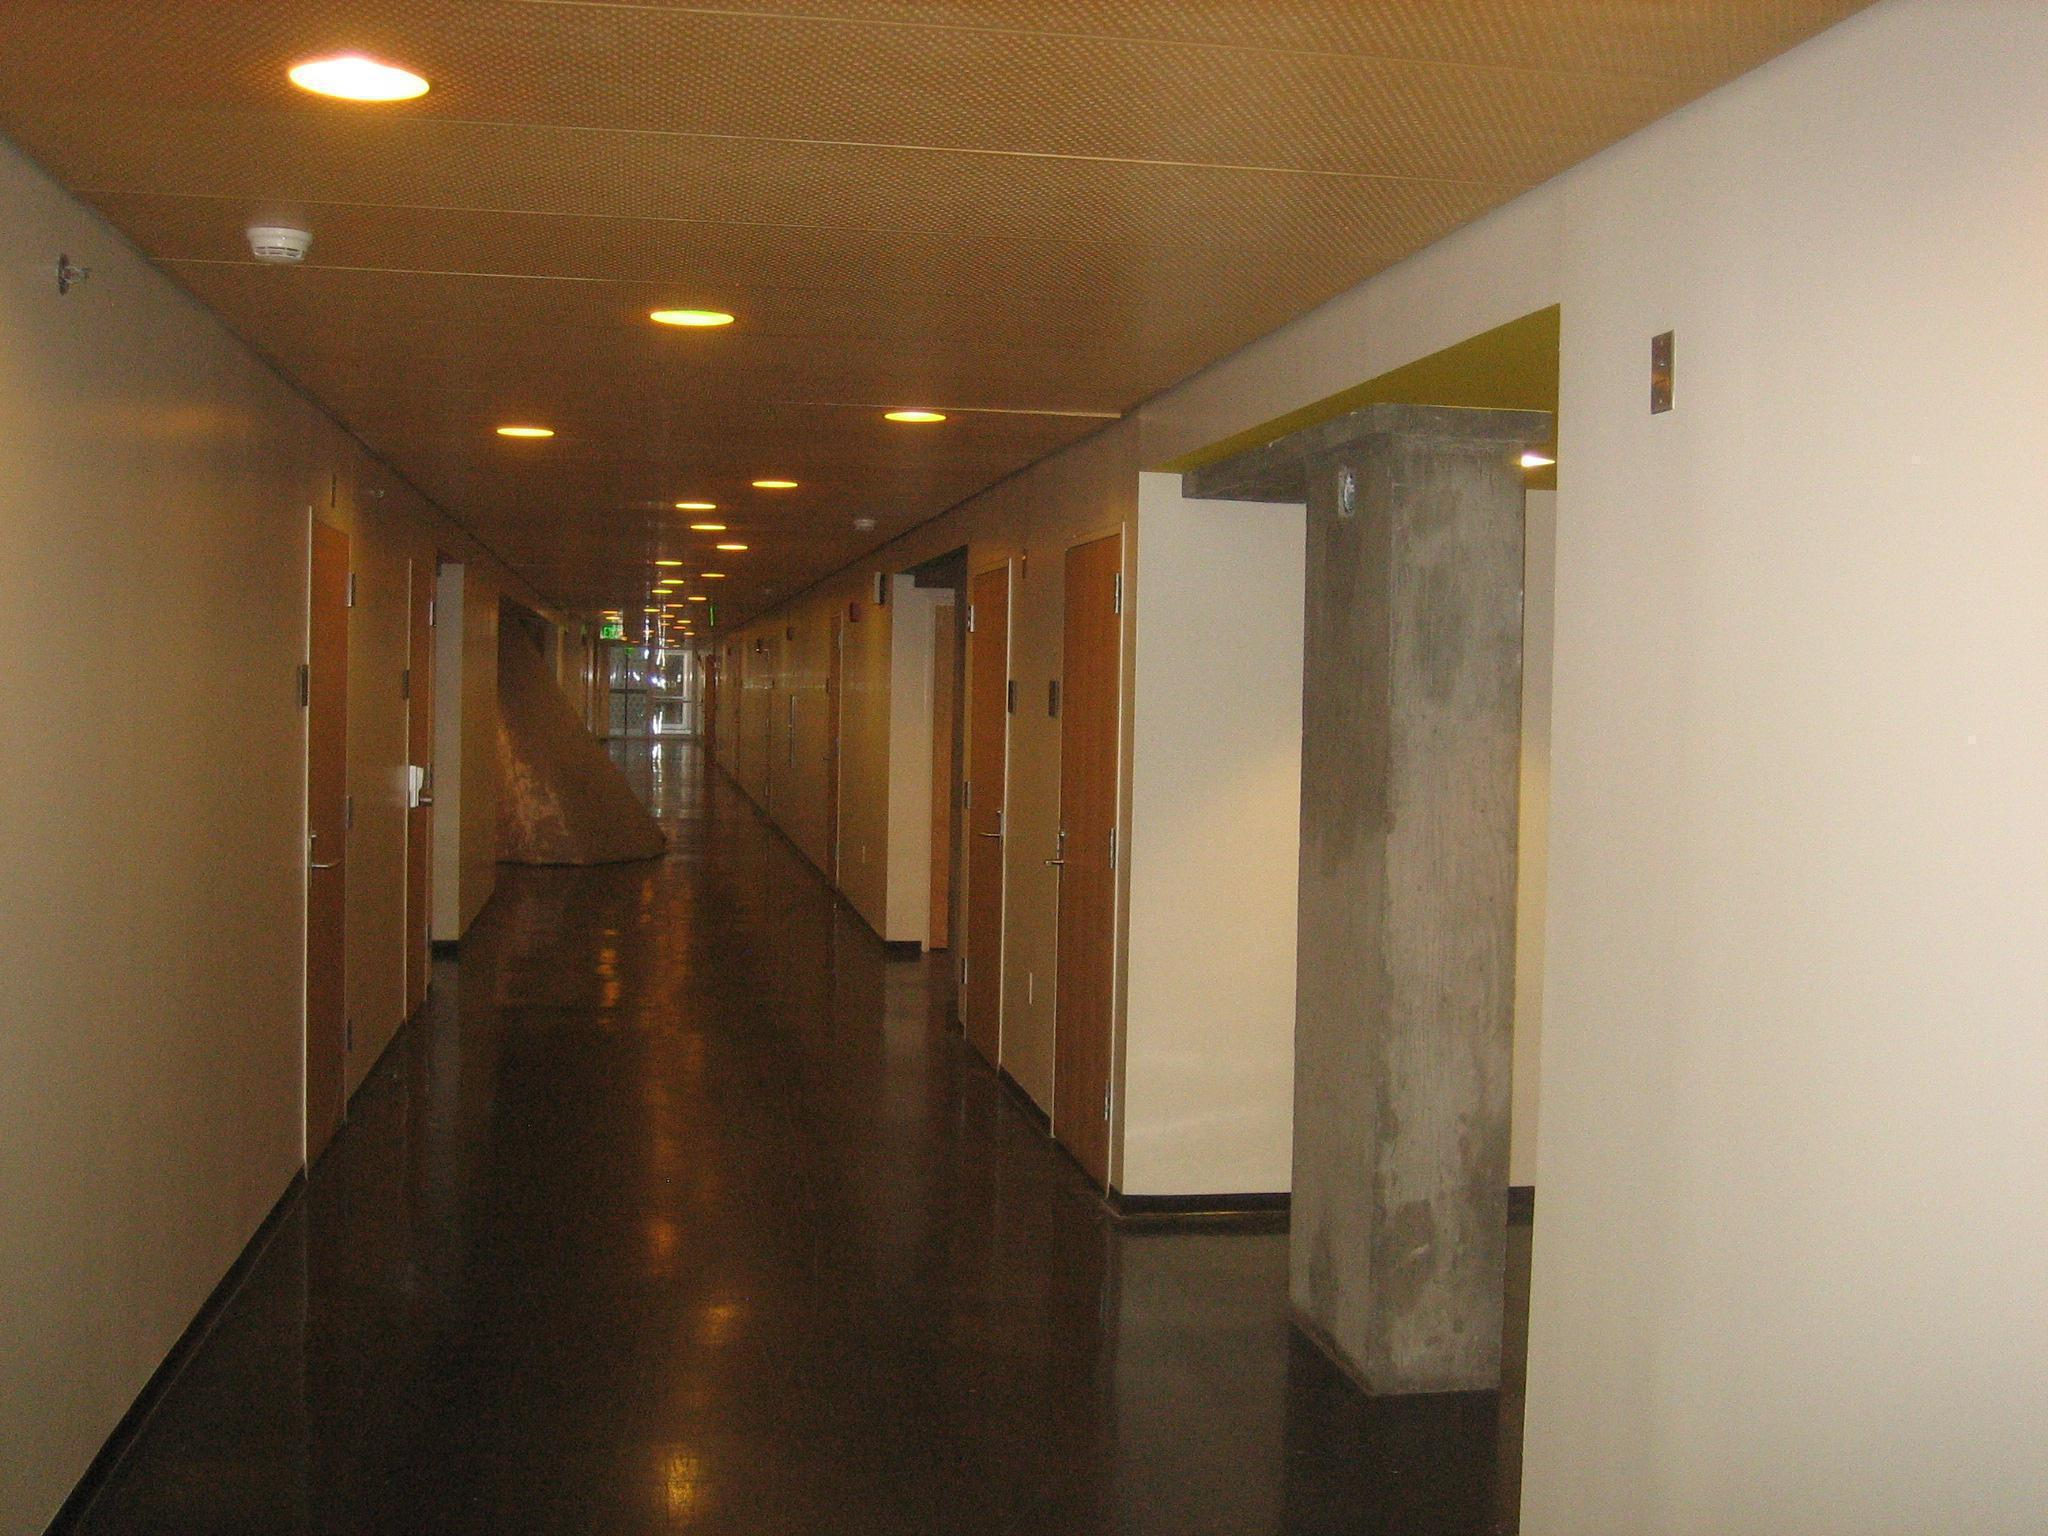Puerta: (1040, 552, 1124, 1181), (302, 515, 361, 1163), (955, 553, 1013, 1079)
